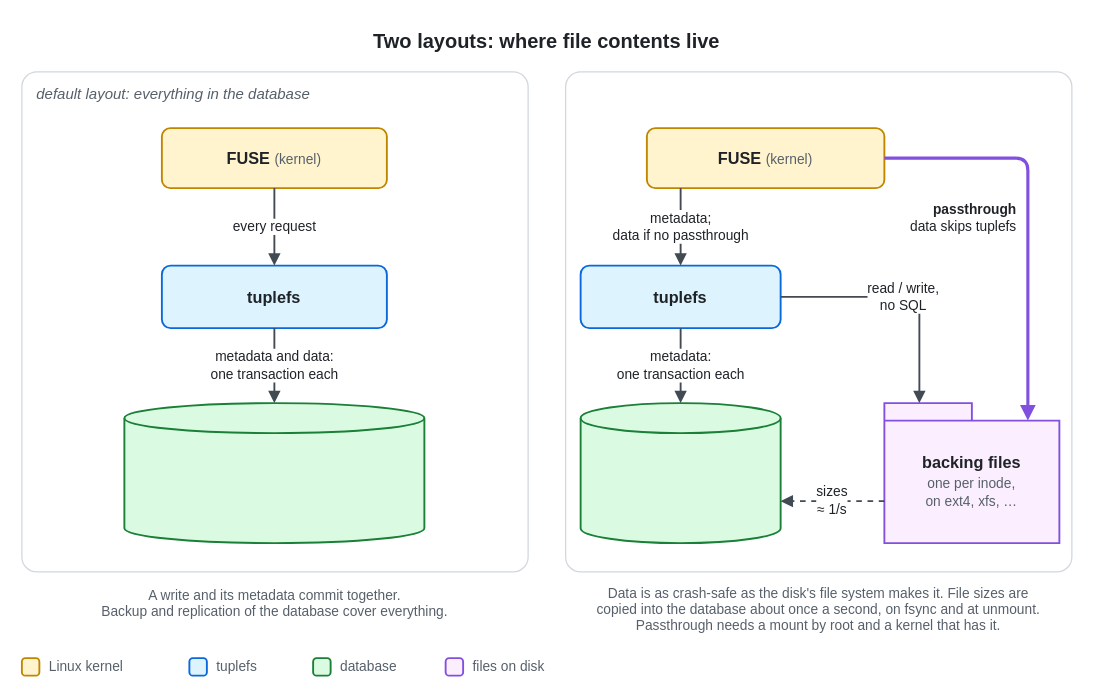
Image size: 1095x700. Some labels were removed from this diagram. Each missing label, with the box of its shape:
database inodes · dirents xattrs: (579, 402, 781, 544)
database inodes · dirents · xattrs blocks = file contents: (123, 402, 425, 544)
hybrid layout: mkfs -data files: (564, 71, 1072, 572)
